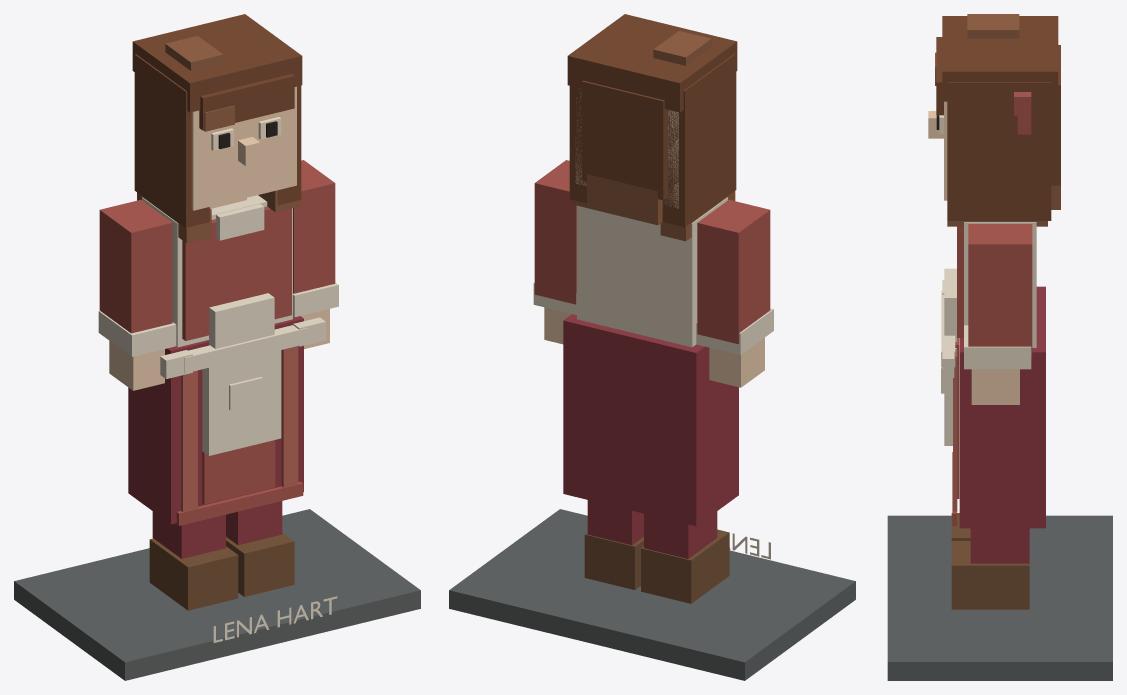
File: Innkeeper.fbx
The picture shows the model from 3 angles, left to right: view 1: azimuth 30°, elevation 25°; view 2: azimuth 150°, elevation 25°; view 3: azimuth 270°, elevation 25°; orthographic projection.
Parts seen in each view (by area): view 1: Lena Hart | display plinth, Lena Hart | long burgundy skirt, Lena Hart | red bodice, Lena Hart | Left red sleeve, Lena Hart | left long hair lock, Lena Hart | hair cap, Lena Hart | square head, Lena Hart | apron skirt, Lena Hart | Right red sleeve, Lena Hart | Left leather boot, Lena Hart | front red skirt panel, Lena Hart | Right leather boot (+20 smaller); view 2: Lena Hart | display plinth, Lena Hart | long burgundy skirt, Lena Hart | cream blouse torso, Lena Hart | left long hair lock, Lena Hart | Left red sleeve, Lena Hart | hair cap, Lena Hart | back hair upper, Lena Hart | Right red sleeve, Lena Hart | Left leather boot, Lena Hart | Right leather boot, Lena Hart | back hair lower, Lena Hart | Left leg (+7 smaller); view 3: Lena Hart | display plinth, Lena Hart | right long hair lock, Lena Hart | long burgundy skirt, Lena Hart | Right red sleeve, Lena Hart | hair cap, Lena Hart | Right leather boot, Lena Hart | Right leg, Lena Hart | Right hand, Lena Hart | Right cream cuff, Lena Hart | top hair highlight, Lena Hart | cream blouse torso, Lena Hart | back hair upper (+10 smaller).
Part boxes in pixels (left/top/right/bottom): Lena Hart | display plinth: left=14, top=509, right=420, bottom=680; Lena Hart | long burgundy skirt: left=128, top=316, right=303, bottom=524; Lena Hart | red bodice: left=182, top=206, right=291, bottom=340; Lena Hart | Left red sleeve: left=99, top=199, right=172, bottom=333; Lena Hart | left long hair lock: left=134, top=54, right=209, bottom=227; Lena Hart | hair cap: left=132, top=14, right=302, bottom=112; Lena Hart | square head: left=191, top=86, right=296, bottom=210; Lena Hart | apron skirt: left=202, top=350, right=281, bottom=455; Lena Hart | Right red sleeve: left=293, top=160, right=335, bottom=293; Lena Hart | Left leather boot: left=149, top=538, right=238, bottom=610; Lena Hart | front red skirt panel: left=202, top=440, right=275, bottom=504; Lena Hart | Right leather boot: left=226, top=532, right=294, bottom=596; Lena Hart | display plinth: left=449, top=509, right=855, bottom=680; Lena Hart | long burgundy skirt: left=563, top=314, right=738, bottom=526; Lena Hart | cream blouse torso: left=577, top=197, right=727, bottom=347; Lena Hart | left long hair lock: left=662, top=53, right=736, bottom=227; Lena Hart | Left red sleeve: left=697, top=199, right=770, bottom=344; Lena Hart | hair cap: left=567, top=14, right=737, bottom=112; Lena Hart | back hair upper: left=582, top=80, right=667, bottom=200; Lena Hart | Right red sleeve: left=534, top=160, right=576, bottom=304; Lena Hart | Left leather boot: left=641, top=529, right=729, bottom=603; Lena Hart | Right leather boot: left=584, top=532, right=643, bottom=589; Lena Hart | back hair lower: left=587, top=174, right=662, bottom=225; Lena Hart | Left leg: left=644, top=511, right=717, bottom=558; Lena Hart | display plinth: left=887, top=515, right=1112, bottom=680; Lena Hart | right long hair lock: left=947, top=82, right=1051, bottom=220; Lena Hart | long burgundy skirt: left=959, top=286, right=1045, bottom=528; Lena Hart | Right red sleeve: left=968, top=224, right=1032, bottom=357; Lena Hart | hair cap: left=942, top=16, right=1058, bottom=101; Lena Hart | Right leather boot: left=951, top=541, right=1029, bottom=609; Lena Hart | Right leg: left=970, top=528, right=1029, bottom=563; Lena Hart | Right hand: left=971, top=369, right=1019, bottom=404; Lena Hart | Right cream cuff: left=964, top=325, right=1031, bottom=369; Lena Hart | top hair highlight: left=967, top=14, right=1019, bottom=38; Lena Hart | cream blouse torso: left=964, top=222, right=1036, bottom=347; Lena Hart | back hair upper: left=1051, top=45, right=1060, bottom=185.
Bounding box in the file's own units: 200 × 365 × 132.
